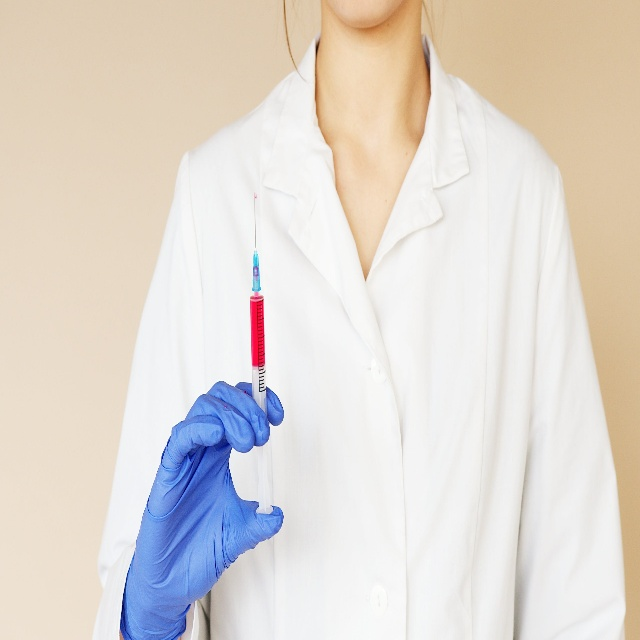Guantes: (118, 379, 289, 640)
